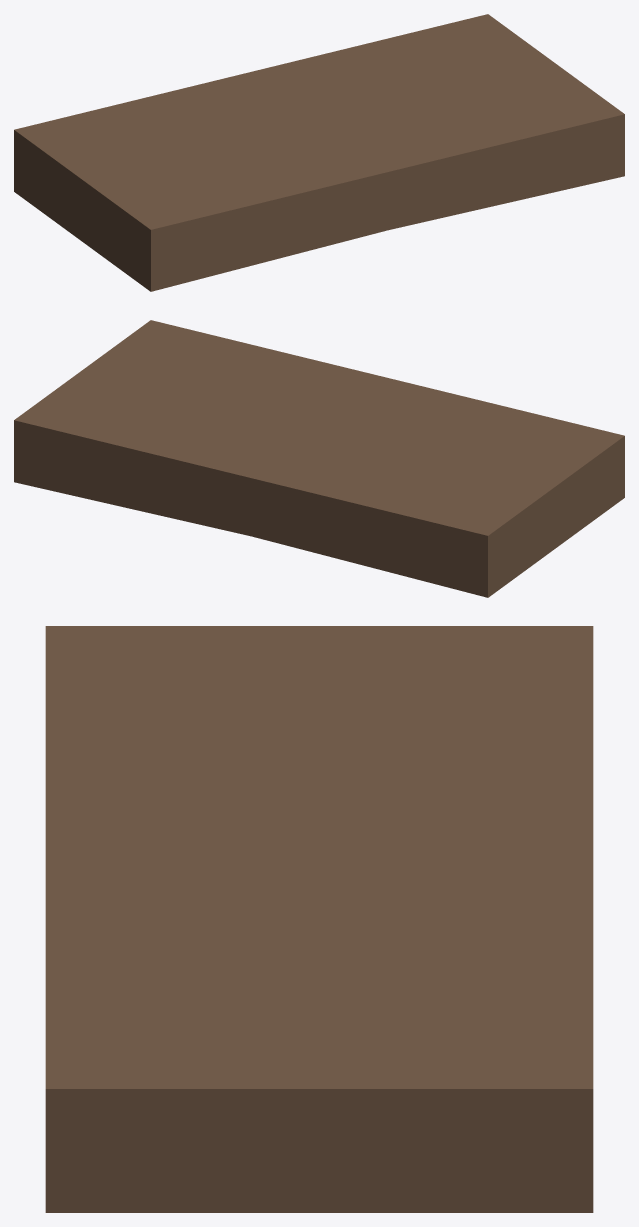
Rendered from Floor.fbx.
3 renders of one model, top to bottom at view 1: azimuth 30°, elevation 25°; view 2: azimuth 150°, elevation 25°; view 3: azimuth 270°, elevation 25°, orthographic. The views are drawn at different scales.
Parts seen in each view (by area): view 1: Floor; view 2: Floor; view 3: Floor.
Part boxes in pixels (bbox=[...]): Floor: bbox=[14, 14, 624, 291]; Floor: bbox=[14, 320, 624, 597]; Floor: bbox=[45, 626, 593, 1212].
Size of the model in its own units: 4 by 0.5 by 2.
